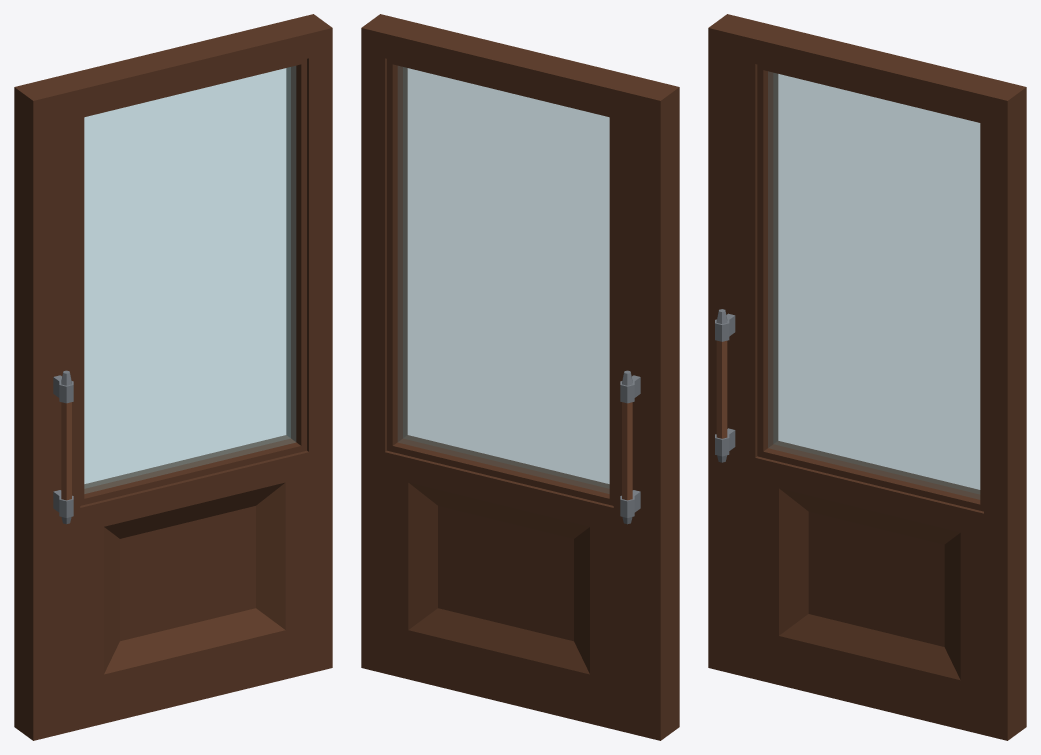
File: SM_Buildings_Railway_01_Door_R.fbx
3 views of the same model, side by side, from view 1: azimuth 30°, elevation 25°; view 2: azimuth 150°, elevation 25°; view 3: azimuth 330°, elevation 25° (orthographic).
Parts seen in each view (by area): view 1: SM_Buildings_Railway_01_Door_R; view 2: SM_Buildings_Railway_01_Door_R; view 3: SM_Buildings_Railway_01_Door_R.
Part boxes in pixels (x1=…): SM_Buildings_Railway_01_Door_R: x1=14, y1=14, x2=332, y2=740; SM_Buildings_Railway_01_Door_R: x1=361, y1=14, x2=679, y2=740; SM_Buildings_Railway_01_Door_R: x1=708, y1=14, x2=1026, y2=740.
Size of the model in its own units: 1.27 by 2.6 by 0.3352.
